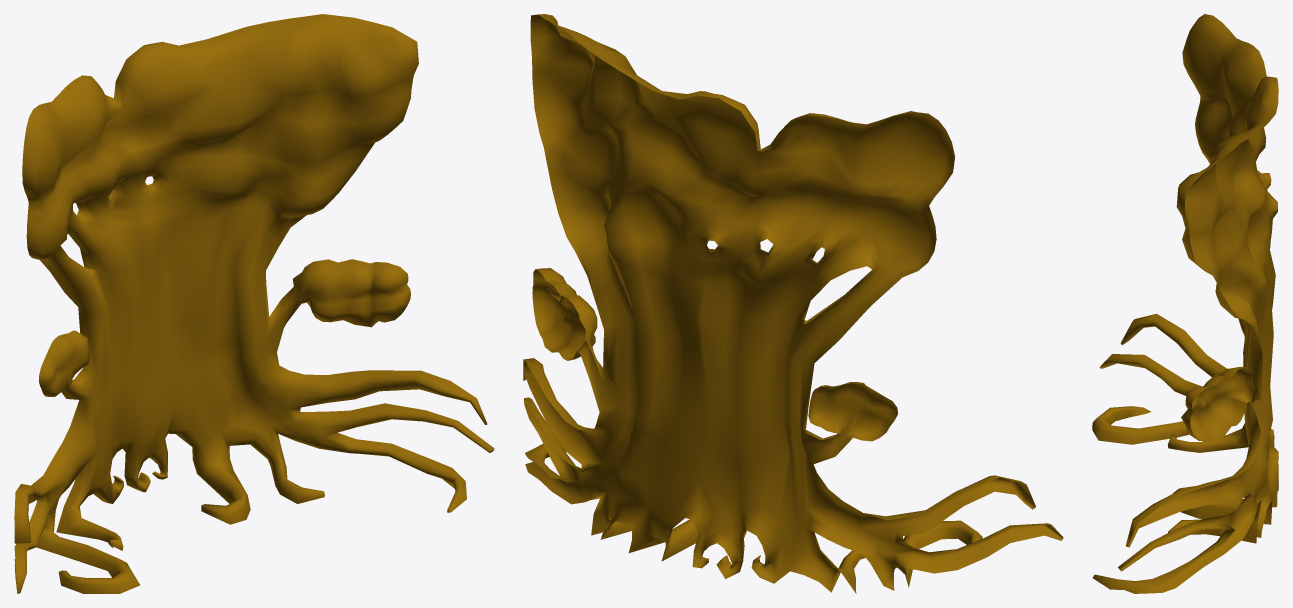
File: Bifrest.fbx
3 views of the same model, side by side, from view 1: azimuth 30°, elevation 25°; view 2: azimuth 150°, elevation 25°; view 3: azimuth 270°, elevation 25° (orthographic). The views are drawn at different scales.
Parts seen in each view (by area): view 1: Cube.013; view 2: Cube.013; view 3: Cube.013.
Part boxes in pixels (x1,y1,x2,y2): Cube.013: (14, 14, 494, 593); Cube.013: (523, 14, 1063, 593); Cube.013: (1092, 14, 1278, 593).
Bounding box in the file's own units: 4350 × 3890 × 1567.
